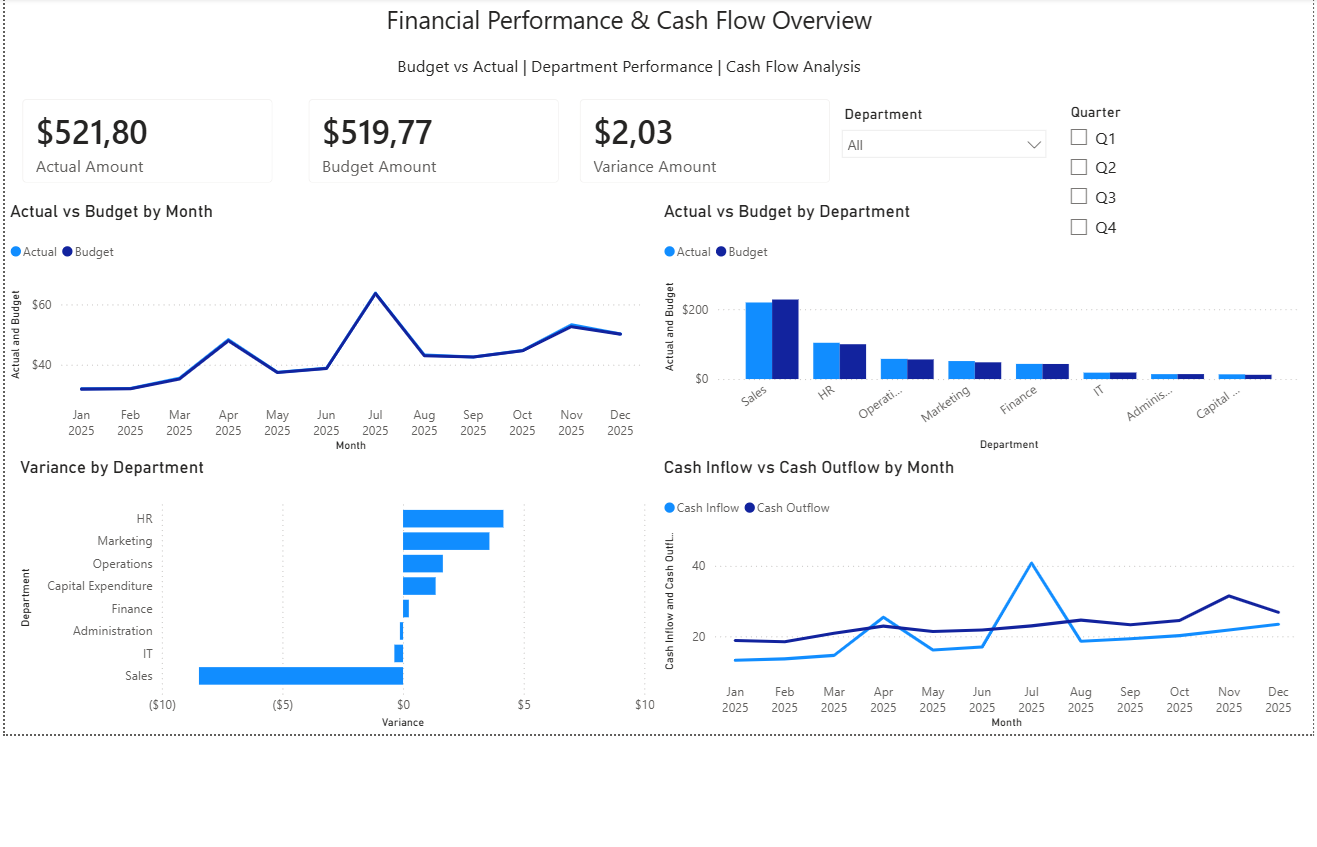

Layout of this report page (visuals, bound fields, positions):
{"tool":"powerbi","page":{"name":"Financial Overview","canvas":[1280,720],"ordinal":0},"visuals":[{"type":"cardVisual","fields":{"Data":["Sum(cash_flow_transactions.Actual Amount)"]},"box":[0,81.7,279.6,116.1],"z":0},{"type":"cardVisual","fields":{"Data":["Sum(cash_flow_transactions.Budget Amount)"]},"box":[279.6,81.7,279.6,116.1],"z":1000},{"type":"cardVisual","fields":{"Data":["Sum(cash_flow_transactions.Variance Amount)"]},"box":[544.8,81.7,279.6,116.1],"z":2000},{"type":"lineChart","title":"Actual vs Budget by Month","fields":{"Category":["cash_flow_transactions.Month EN"],"Y":["Sum(cash_flow_transactions.Actual Amount)","Sum(cash_flow_transactions.Budget Amount)"]},"box":[0,197.9,629.4,250.9],"z":3000},{"type":"clusteredColumnChart","title":"Actual vs Budget by Department","fields":{"Category":["cash_flow_transactions.Department"],"Y":["Sum(cash_flow_transactions.Actual Amount)","Sum(cash_flow_transactions.Budget Amount)"]},"box":[639.4,197.9,632.3,249.5],"z":4000},{"type":"clusteredBarChart","fields":{"Category":["cash_flow_transactions.Department"],"Y":["Sum(cash_flow_transactions.Variance Amount)"]},"box":[10,448.7,630.8,271],"z":5000},{"type":"lineChart","title":"Cash Inflow vs Cash Outflow by Month","fields":{"Category":["cash_flow_transactions.Month EN"],"Y":["Sum(cash_flow_transactions.Cash Inflow)","Sum(cash_flow_transactions.Cash Outflow)"]},"box":[639.4,448.7,633.7,271],"z":6000},{"type":"slicer","fields":{"Values":["cash_flow_transactions.Department"]},"box":[808.6,100.4,220.8,80.3],"z":7000},{"type":"slicer","fields":{"Values":["cash_flow_transactions.Quarter"]},"box":[1029.4,97.5,213.6,154.8],"z":8000},{"type":"textbox","box":[176.3,0,868.8,97.5],"z":9000}]}

Visuals, with their boxes on the page's 1280x720 design canvas (x1, y1, x2, y2). These are canvas units, not pixel positions in the 1317x847 screenshot, which may show the page scaled, cropped or inside an application window:
cardVisual - Sum(cash_flow_transactions.Actual Amount): l=0, t=82, r=280, b=198
cardVisual - Sum(cash_flow_transactions.Budget Amount): l=280, t=82, r=559, b=198
cardVisual - Sum(cash_flow_transactions.Variance Amount): l=545, t=82, r=824, b=198
"Actual vs Budget by Month" lineChart: l=0, t=198, r=629, b=449
"Actual vs Budget by Department" clusteredColumnChart: l=639, t=198, r=1272, b=447
clusteredBarChart - cash_flow_transactions.Department x Sum(cash_flow_transactions.Variance Amount): l=10, t=449, r=641, b=720
"Cash Inflow vs Cash Outflow by Month" lineChart: l=639, t=449, r=1273, b=720
slicer - cash_flow_transactions.Department: l=809, t=100, r=1029, b=181
slicer - cash_flow_transactions.Quarter: l=1029, t=98, r=1243, b=252
textbox: l=176, t=0, r=1045, b=98
